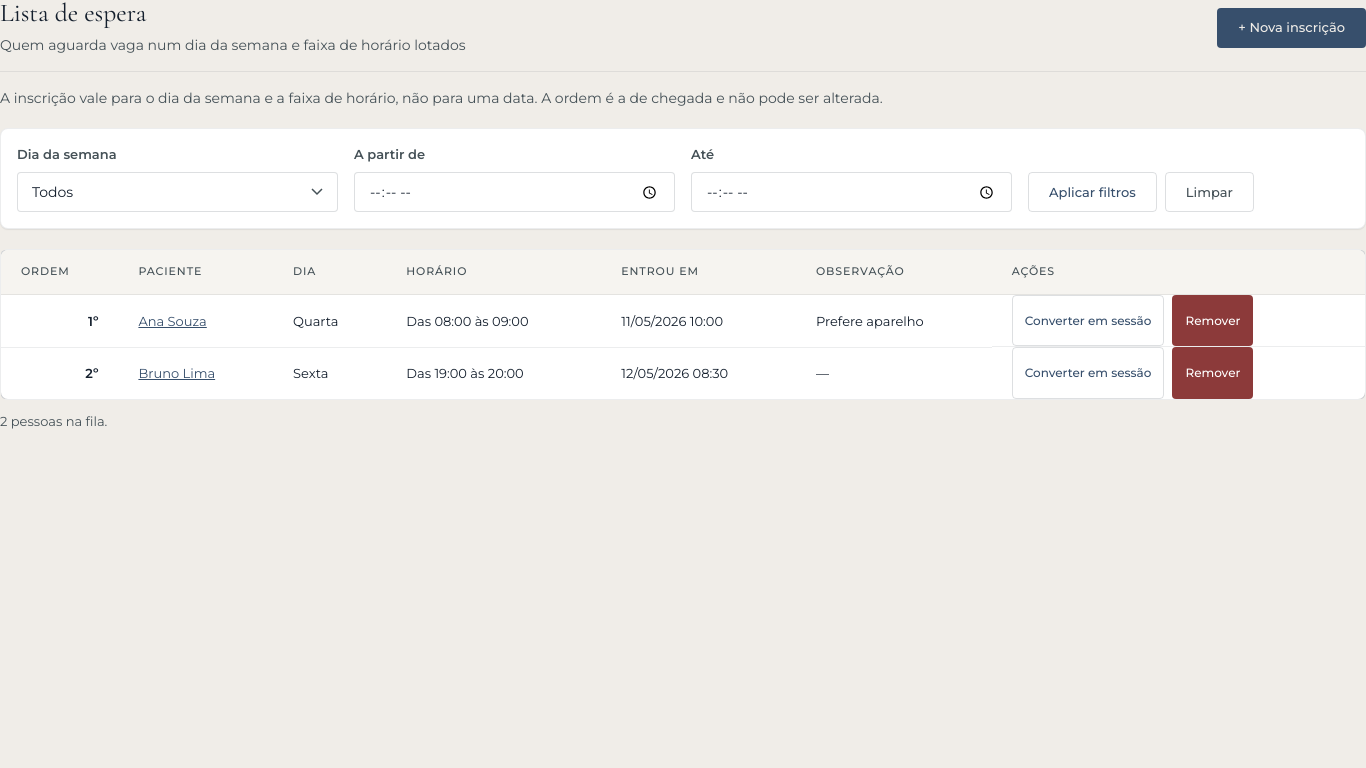
Test: ListaEsperaListComponent › remoção › should remove and reload after confirming
This screenshot has width=1366, height=768.
Step 1. Click the button with class "btn-danger" in the row of "1º" → (1213, 321), box [1172,295,1253,346]
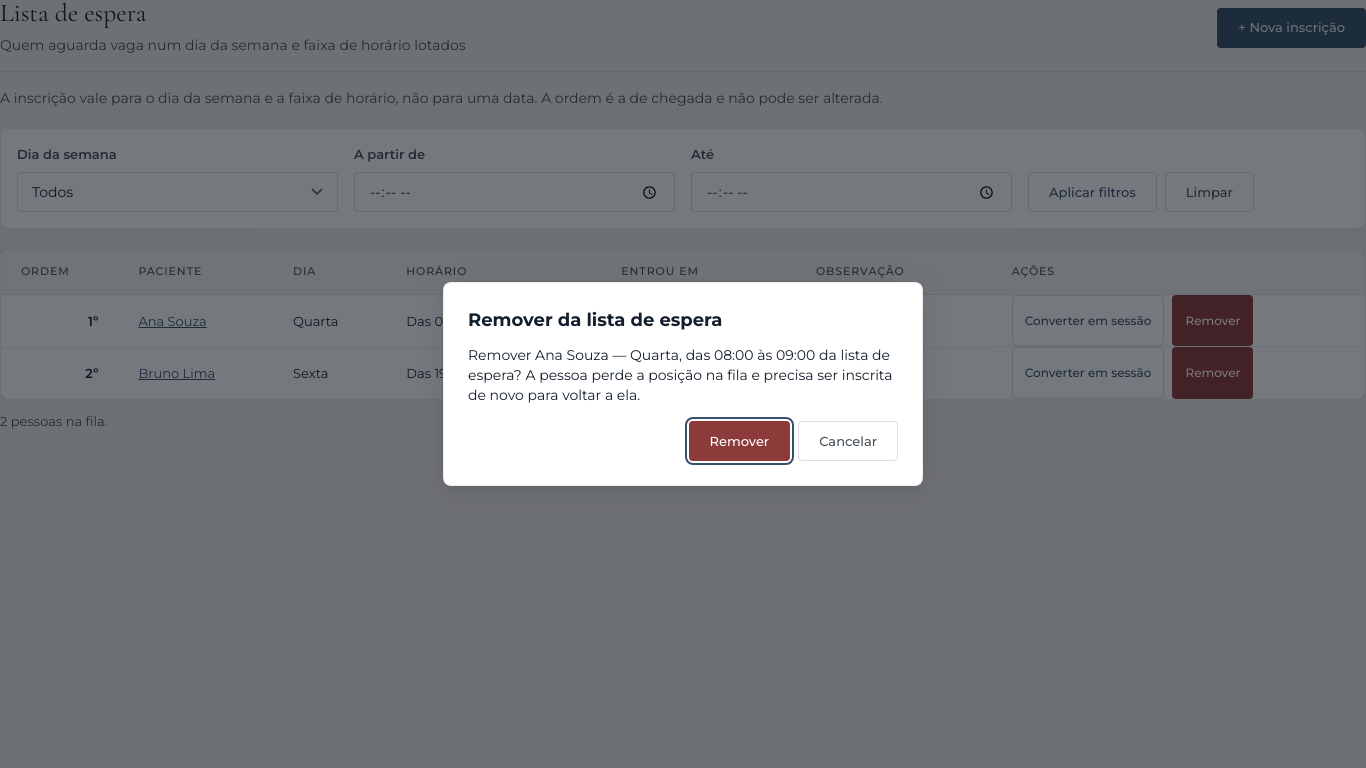
Step 2. Click the button with class "btn-danger" showing "Remover" → (739, 442), box [689,422,790,462]
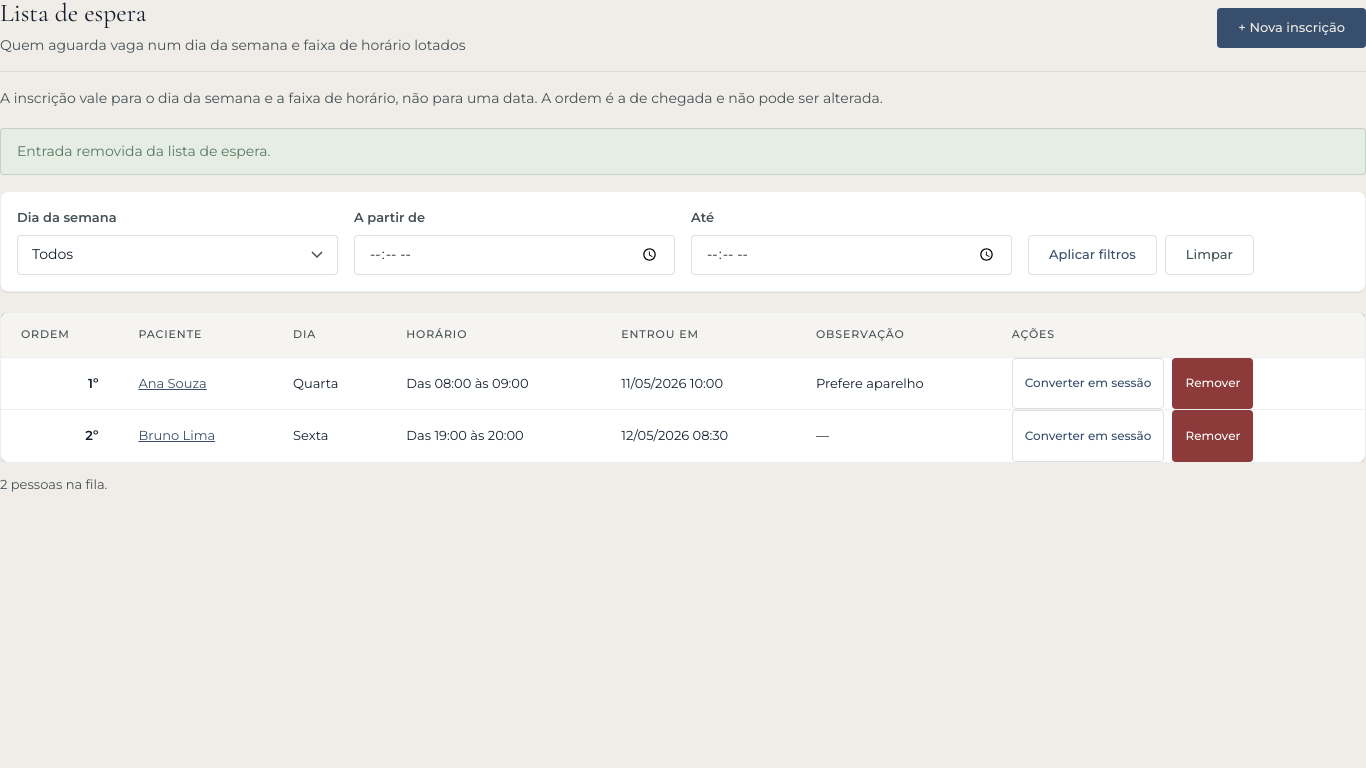
Expected: the message with class "alert-success" reads "Entrada removida da lista de espera.", [17,142,271,160]
